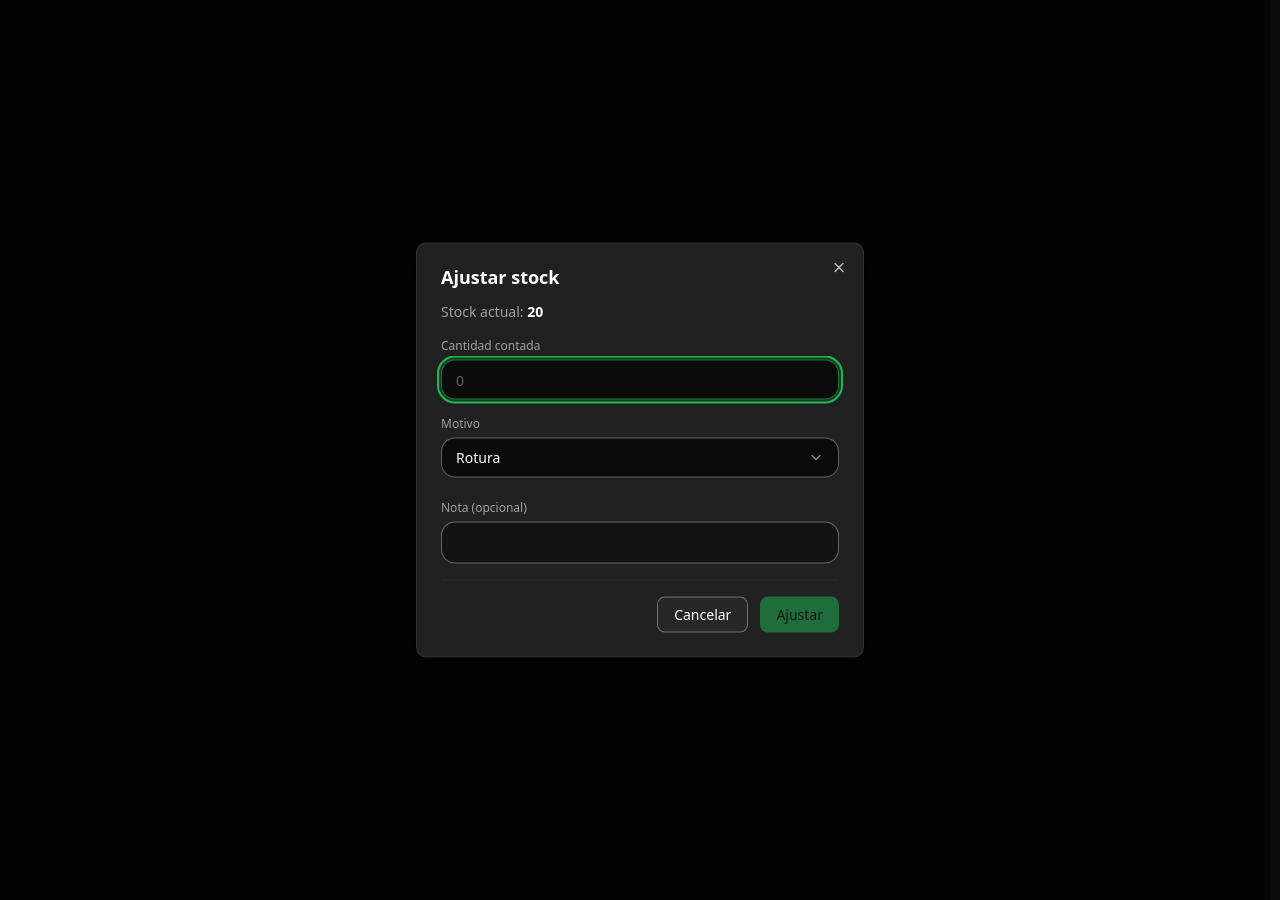
it: AdjustDialog — computed difference › shows a negative difference when counted is lower than current stock
Type "15" into the number field labelled "Cantidad contada" at (640, 380), box [441, 360, 839, 400]
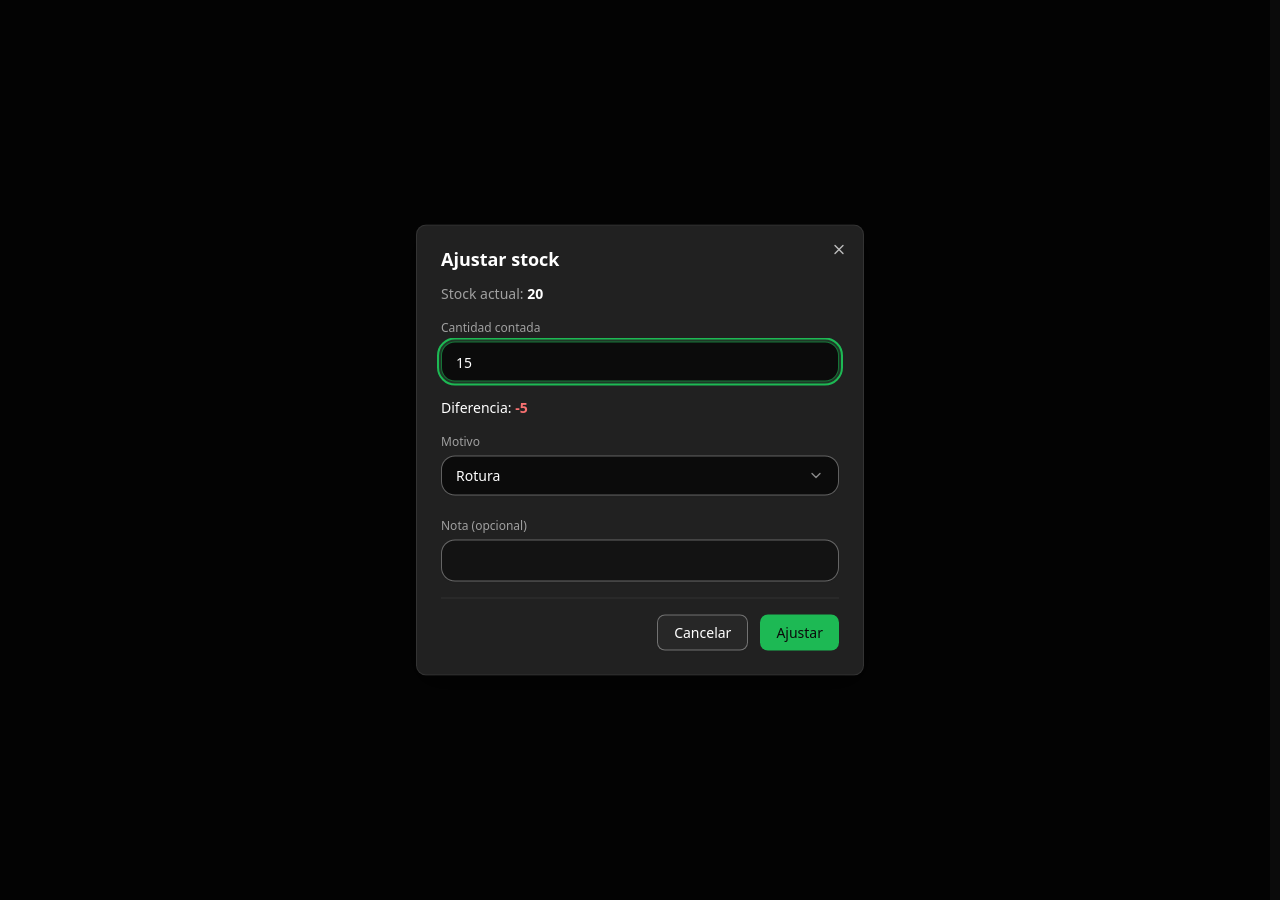
Result: the element with test id "adjust-difference" shows "-5" at [515, 398, 528, 416]
